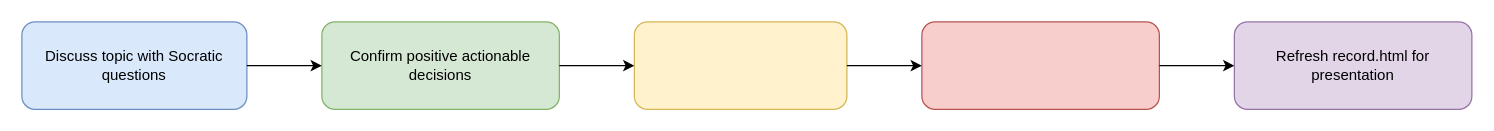
This 1494x131 diagram has some shape labels left out. Each missing label, with the box of its shape:
Add editable draw.io diagram when useful: (921, 21, 1159, 109)
Update topic record.md: (633, 21, 847, 109)
